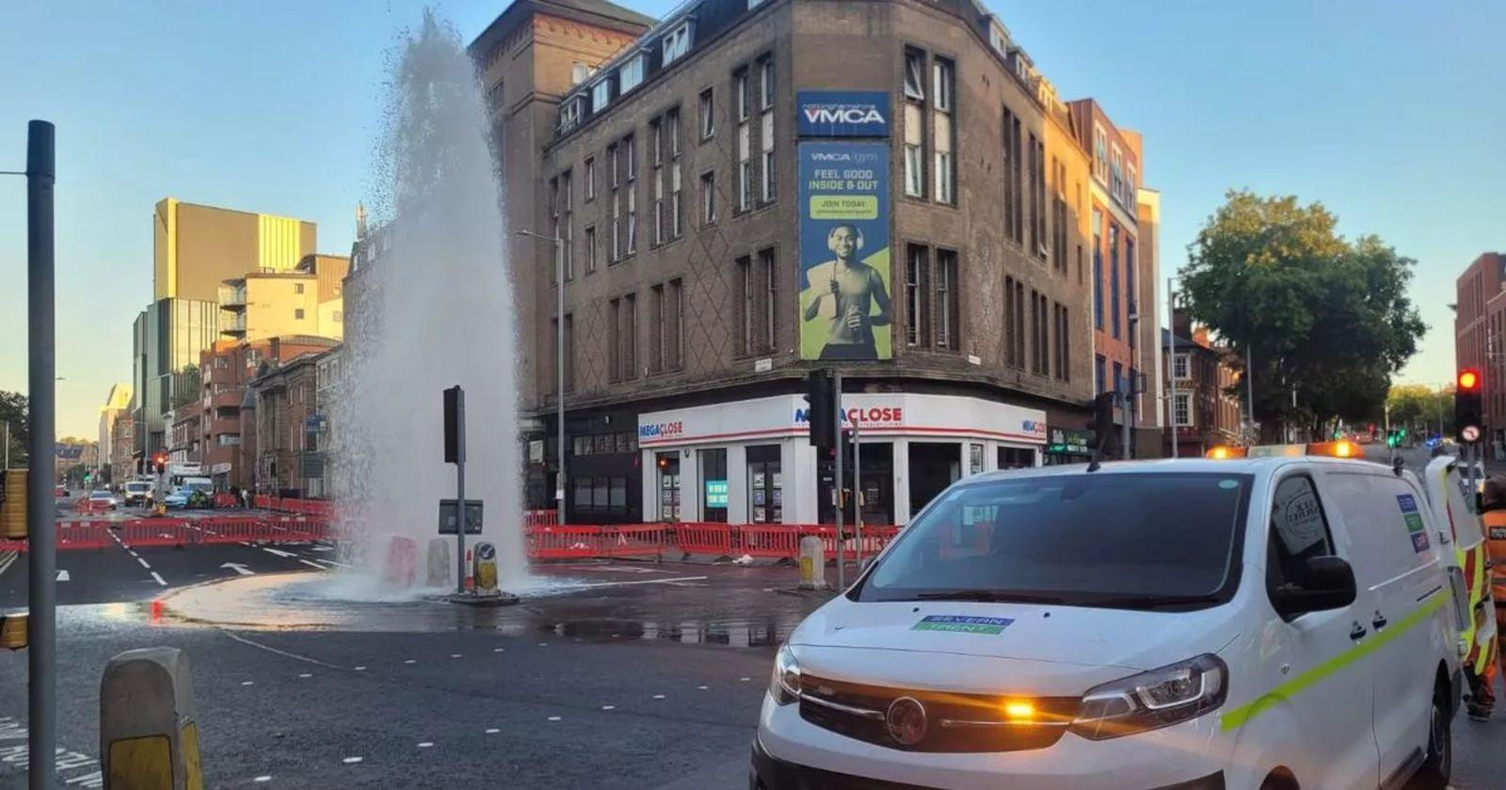pipe burst: (330, 10, 533, 587)
water accumulation: (97, 567, 817, 650)
